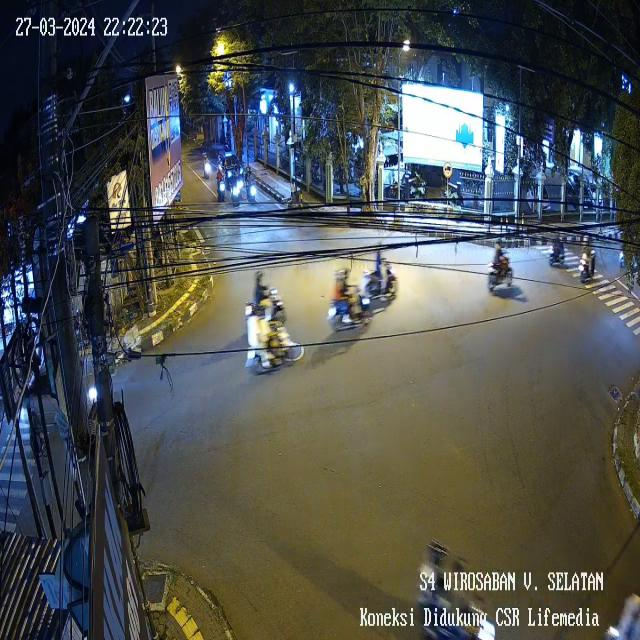car: (217, 149, 246, 182)
motorcycle: (416, 536, 502, 640), (241, 301, 299, 374), (327, 257, 372, 338), (248, 261, 292, 326), (360, 246, 404, 305), (607, 576, 640, 640), (484, 240, 520, 294), (547, 230, 570, 273), (579, 238, 600, 284), (248, 169, 262, 206), (216, 165, 228, 207), (202, 150, 211, 192), (236, 164, 245, 195), (231, 188, 241, 212)
